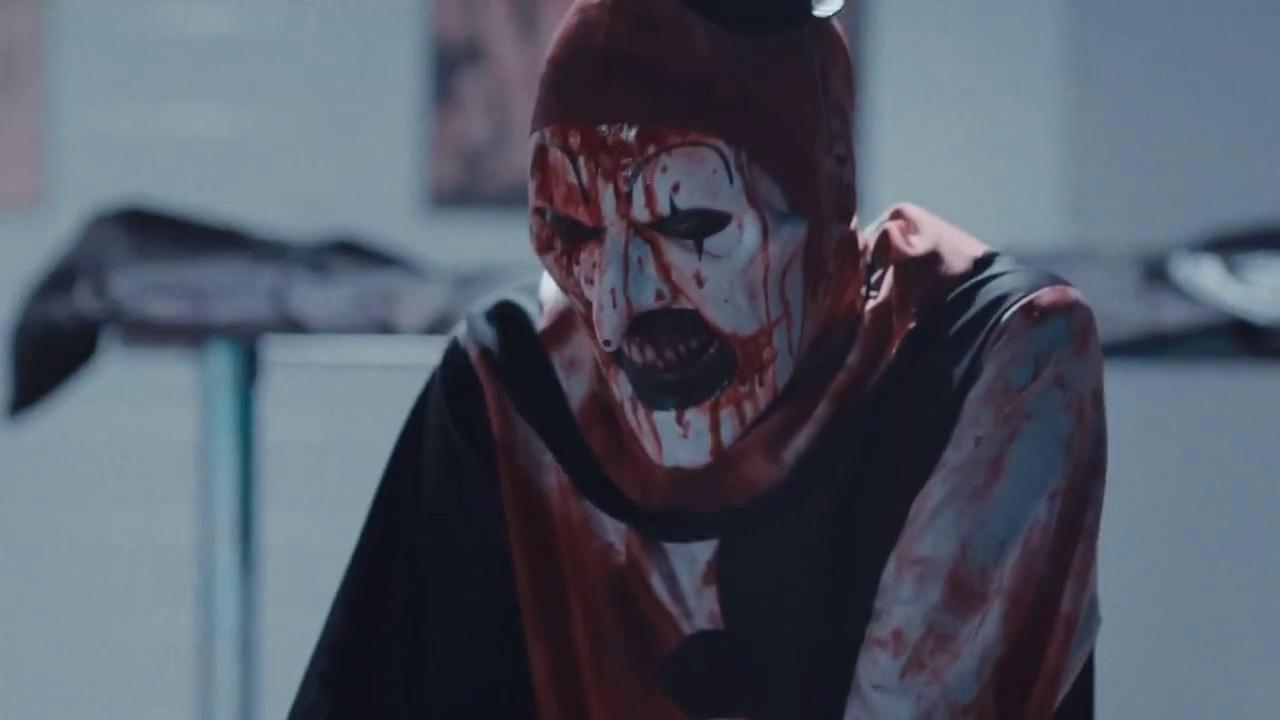Fire: (291, 0, 1109, 719)
